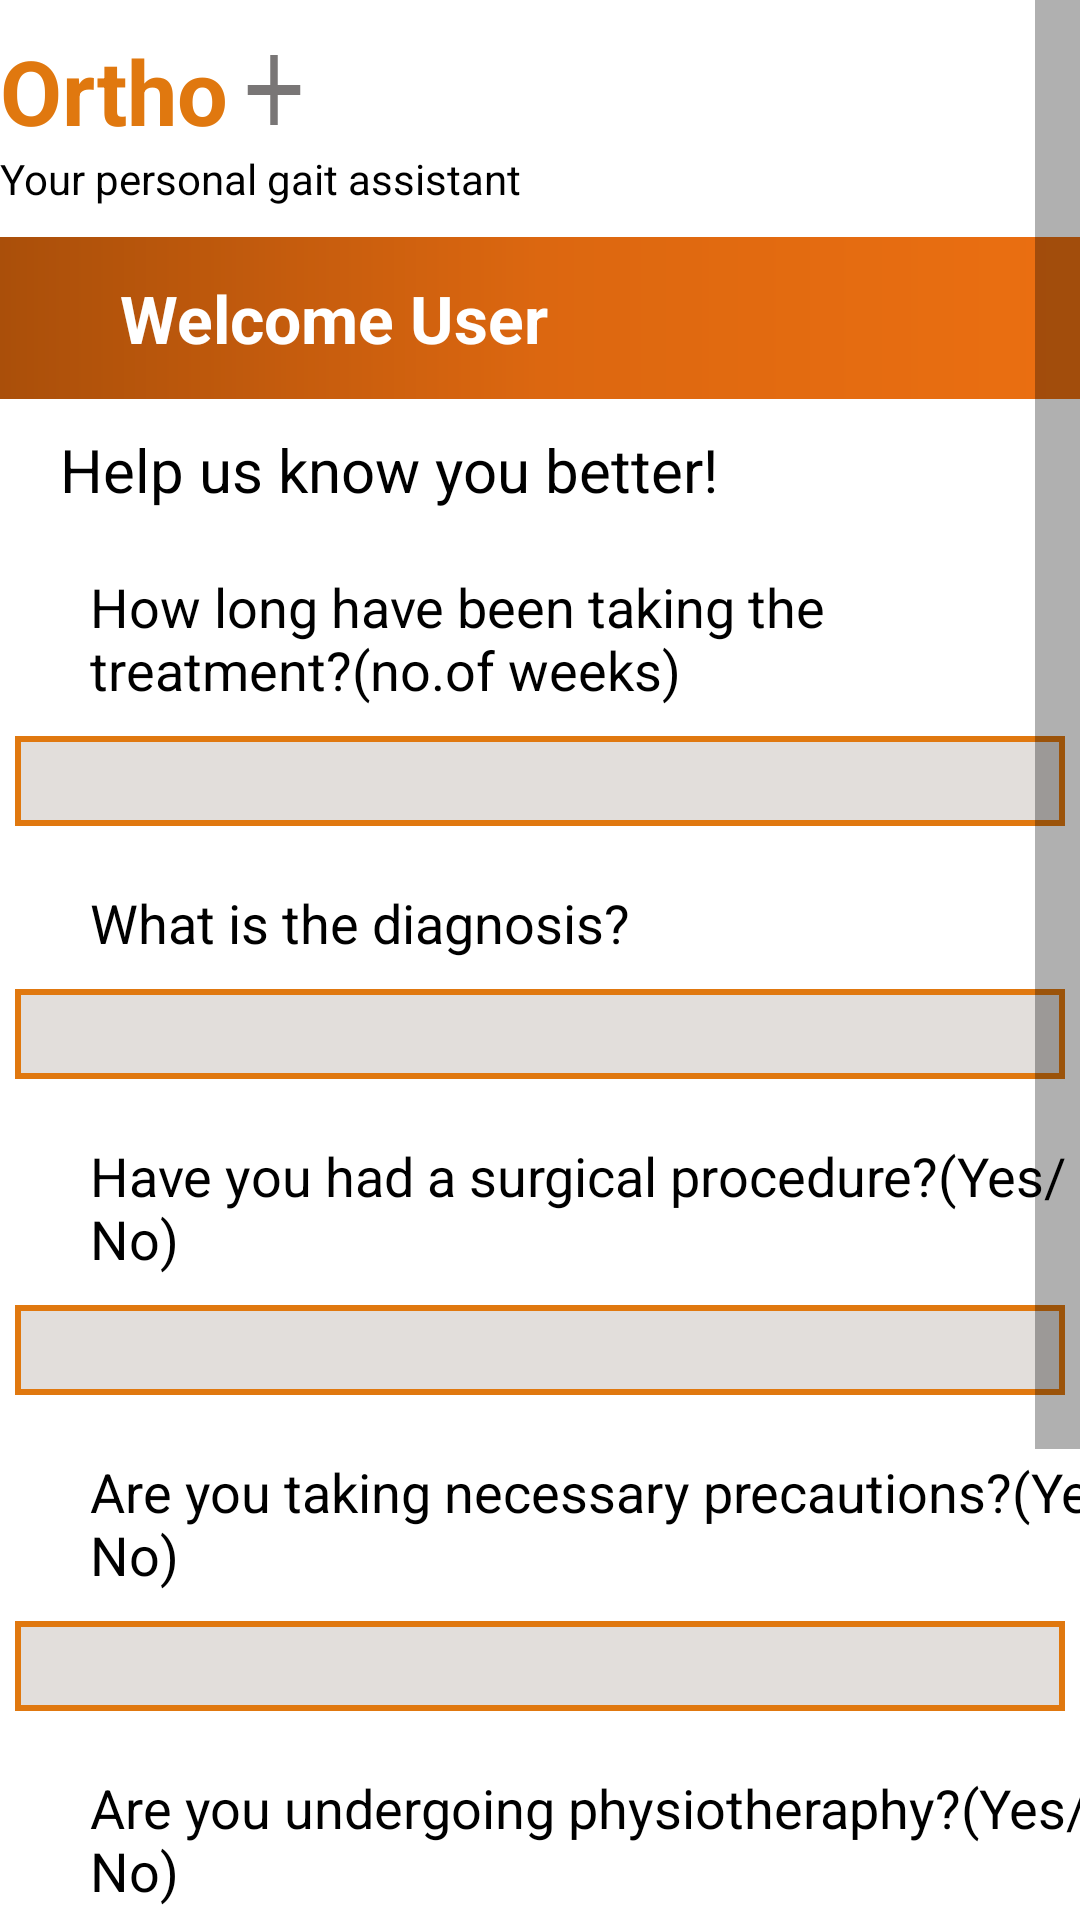

Locate icon controls on the screen. Image size 1080 × 1920, boxes as (x1, y1, x2, y2).
add: (247, 55, 301, 125)
